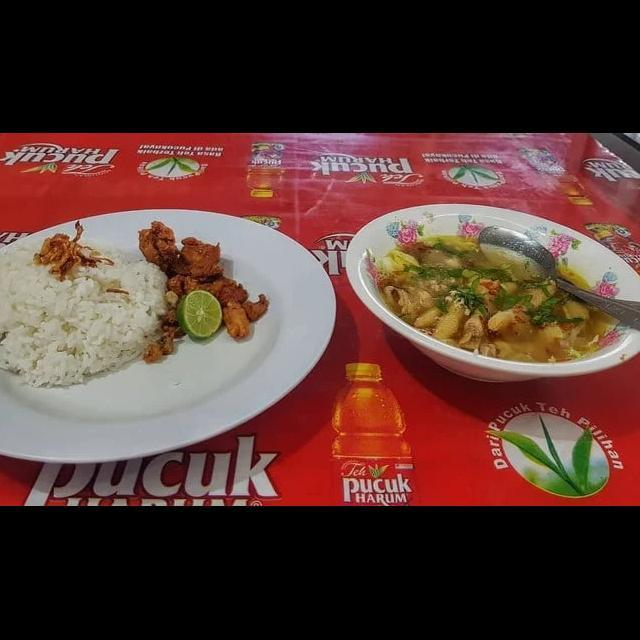Soto: (382, 202, 612, 384)
